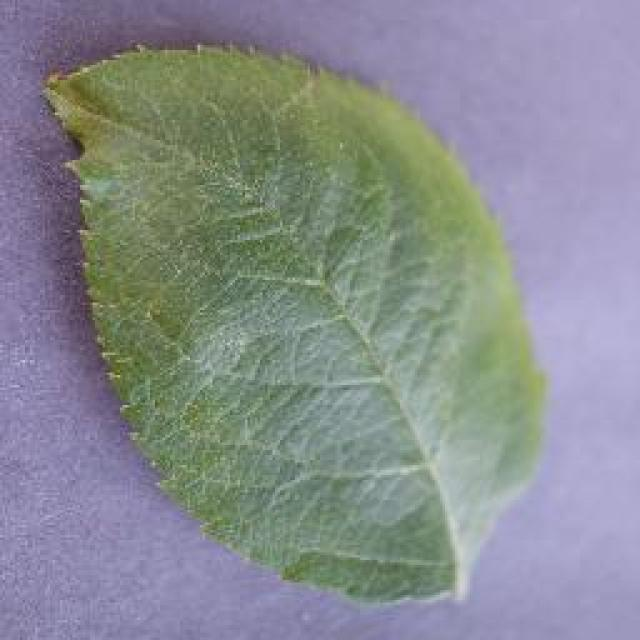apple healthy: (40, 38, 548, 608)
